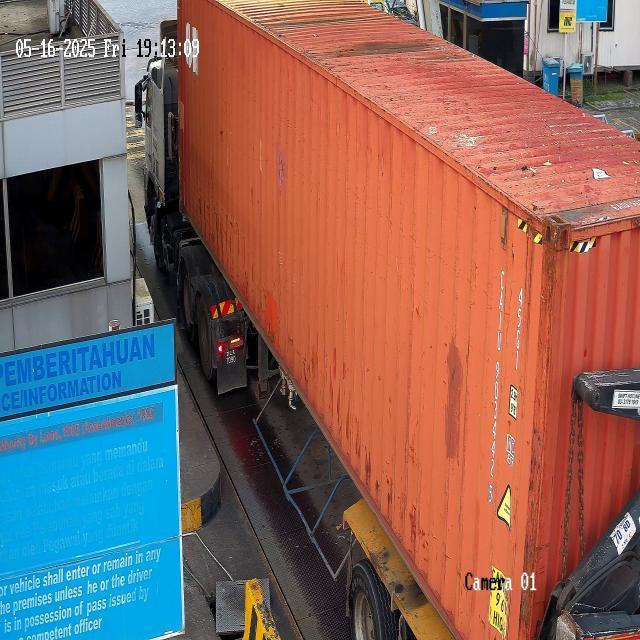ISO: (509, 288, 527, 380)
container_number: (472, 258, 507, 514)
